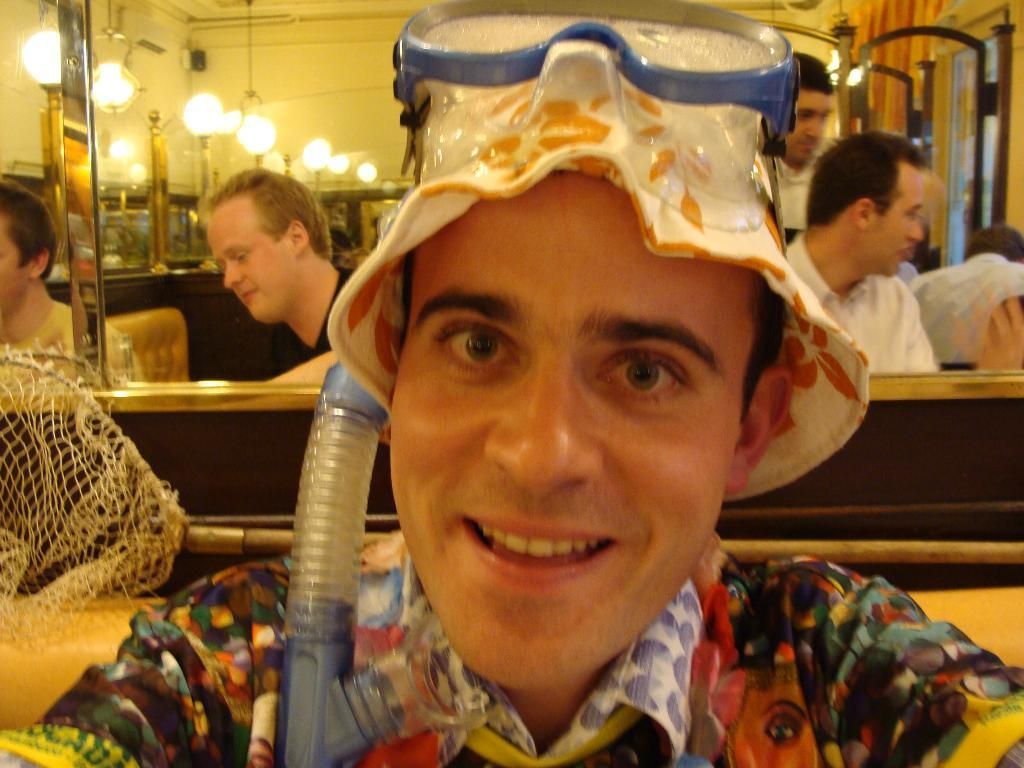Hat: (327, 0, 874, 504)
